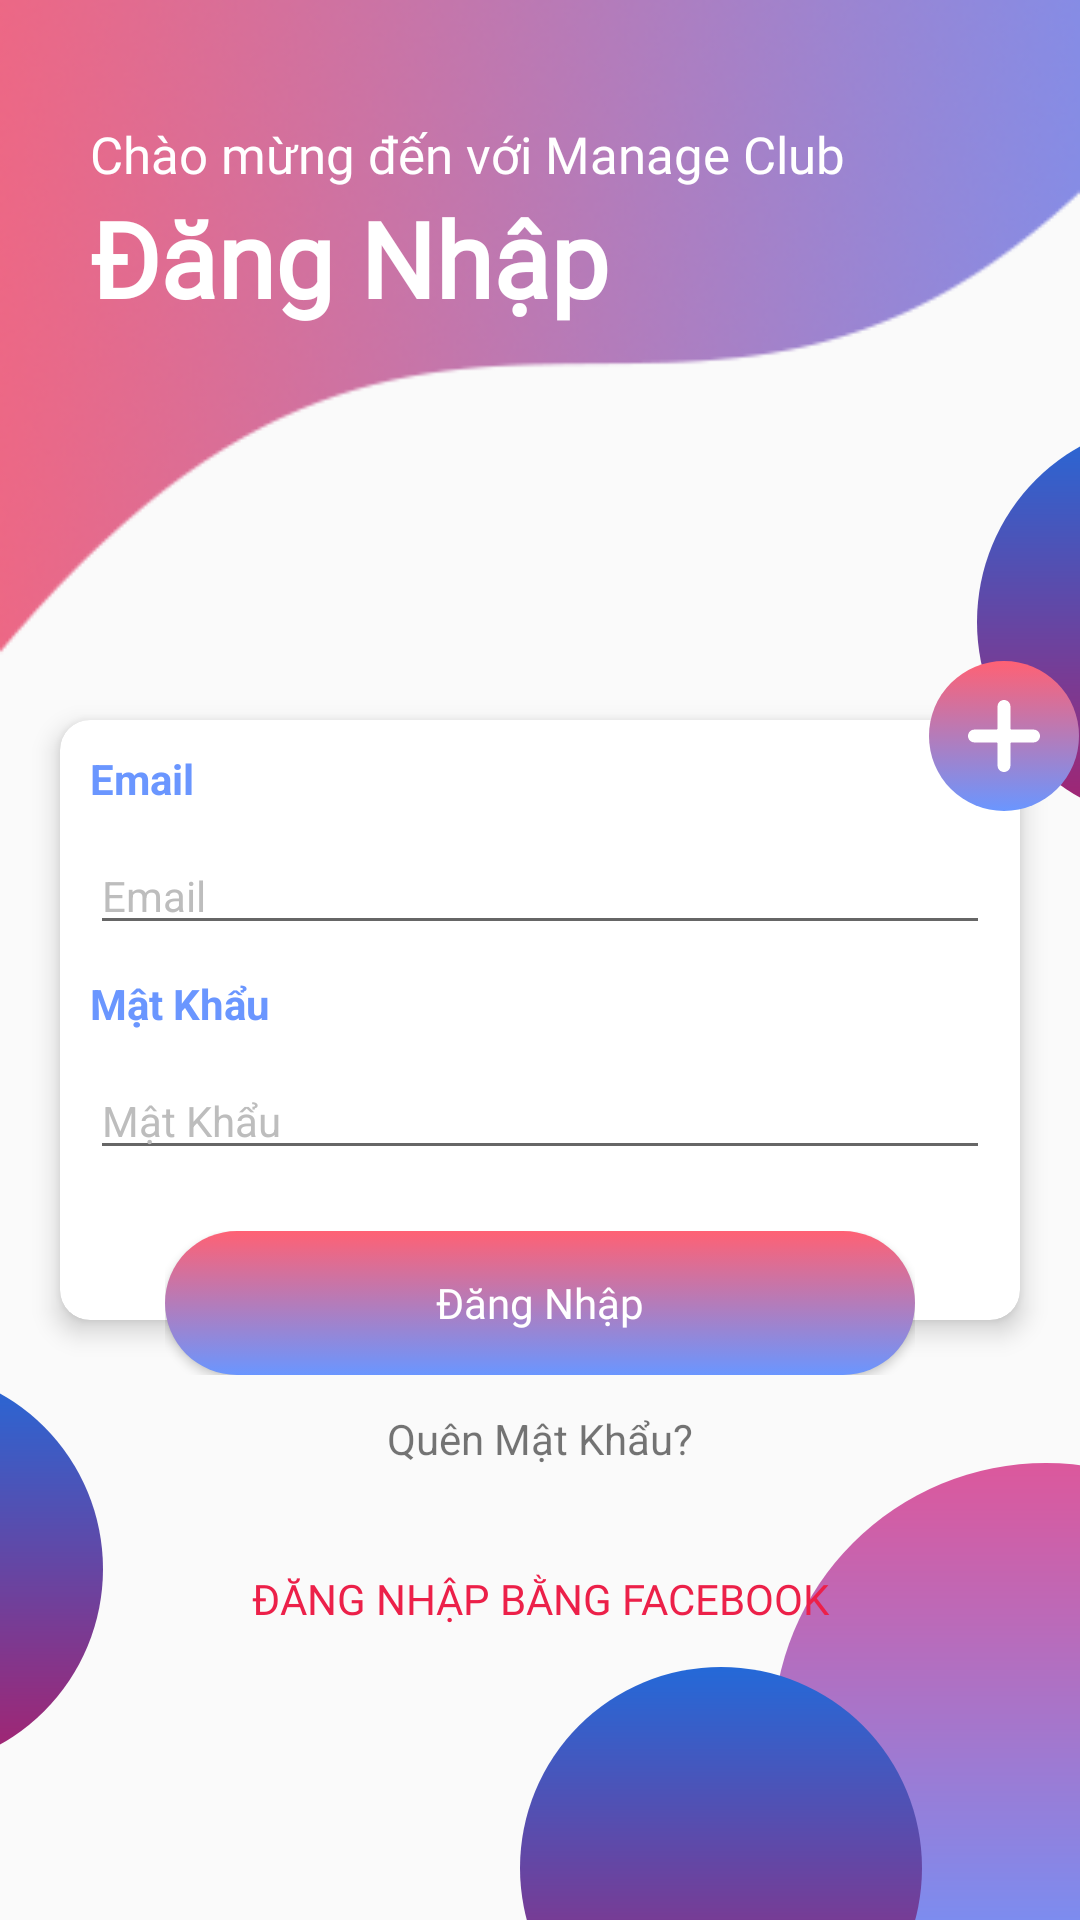

Icon bounding boxes for this 1080px x 1920px phone screenshot, format bbox(x1, y1, x2, y2):
add: bbox(929, 661, 1079, 811)
